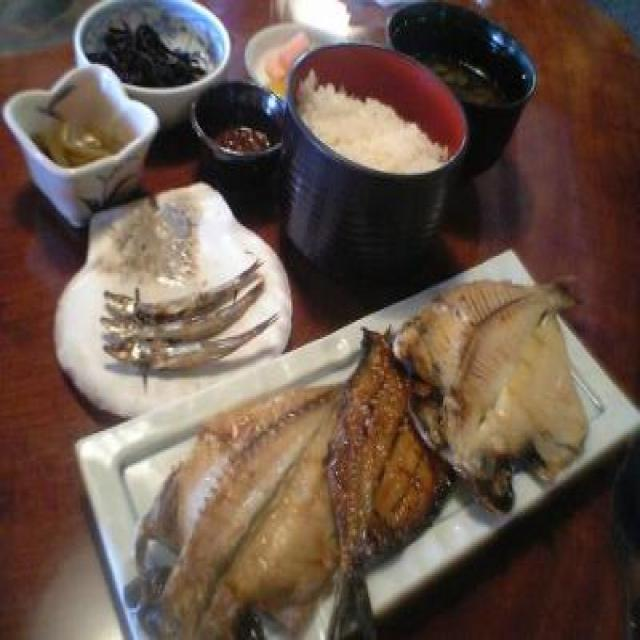熟制海鲜: (104, 443, 640, 640)
